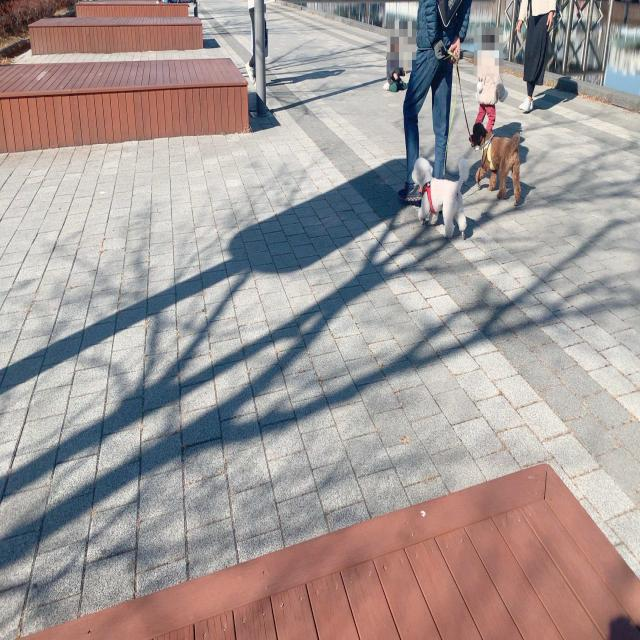Leashed_Dog: (436, 24, 523, 207), (412, 27, 469, 245)
